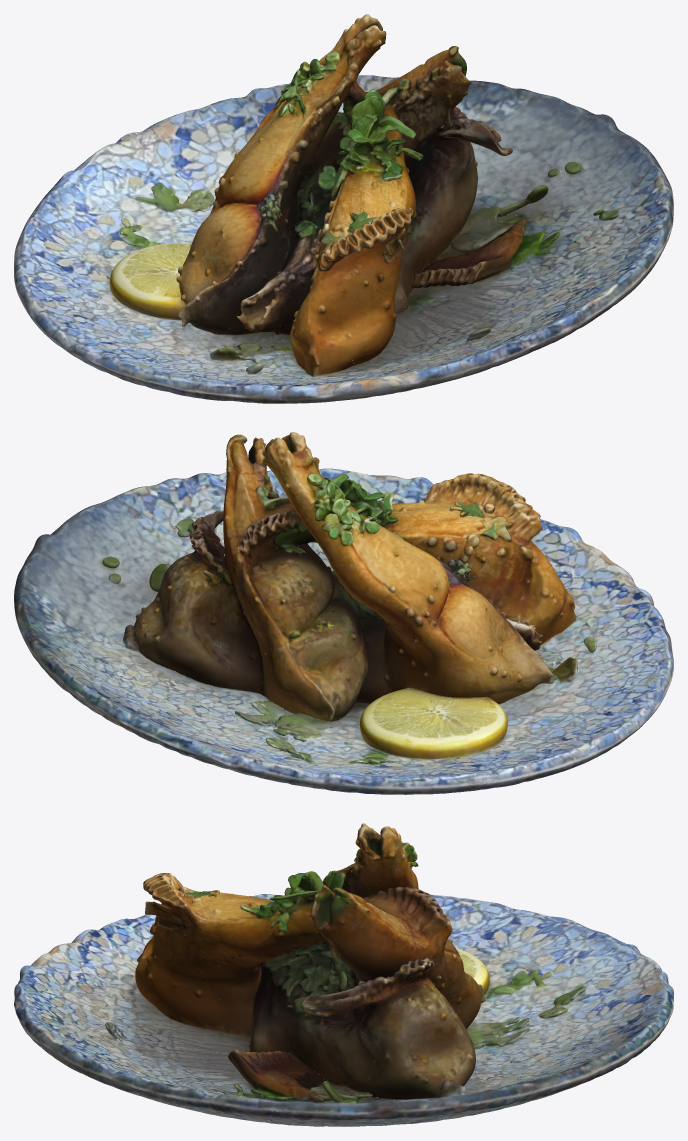
The model's file is baliq2.glb.
3 renders of one model, top to bottom at view 1: azimuth 30°, elevation 25°; view 2: azimuth 150°, elevation 25°; view 3: azimuth 270°, elevation 25°, orthographic.
Visible parts, largest first — view 1: baliq; view 2: baliq; view 3: baliq.
Part boxes in pixels (<box>): baliq: <box>14,14,673,403</box>; baliq: <box>14,432,673,794</box>; baliq: <box>14,823,673,1126</box>.
Bounding box in the file's own units: 0.7574 × 0.3357 × 0.7486.
Materials: 1 (1 with a texture image).
